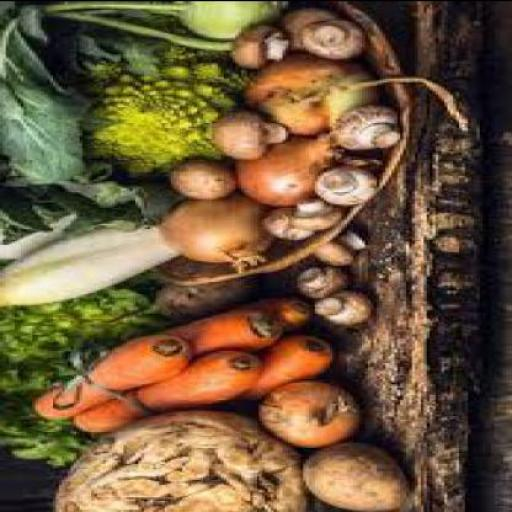biodegradable: (0, 2, 165, 245), (0, 287, 154, 469), (50, 411, 302, 511), (68, 46, 241, 180), (68, 350, 256, 434), (0, 224, 177, 308), (24, 336, 188, 420), (235, 53, 383, 138), (229, 136, 338, 210), (156, 198, 268, 270), (50, 12, 227, 57), (221, 334, 329, 402), (300, 447, 410, 511), (118, 1, 286, 41), (256, 382, 356, 446), (156, 313, 286, 357), (0, 213, 86, 262), (205, 298, 309, 336), (206, 110, 280, 158), (224, 25, 286, 69), (330, 110, 397, 150), (165, 162, 229, 202), (298, 21, 362, 60), (310, 170, 374, 207), (279, 9, 336, 49), (41, 2, 179, 18), (303, 233, 362, 268), (286, 200, 344, 234), (259, 205, 312, 242), (315, 292, 368, 326), (295, 268, 344, 298)
